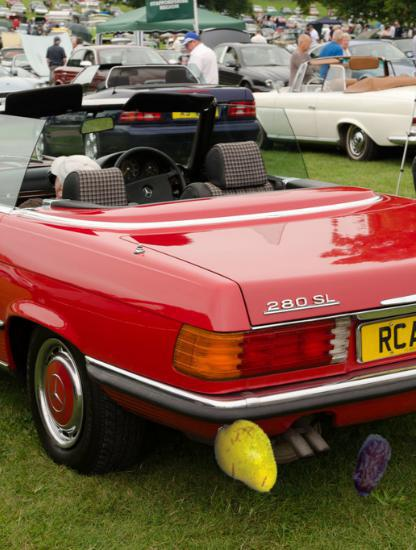Dates: (339, 434, 404, 499)
Pear: (207, 418, 289, 500)
